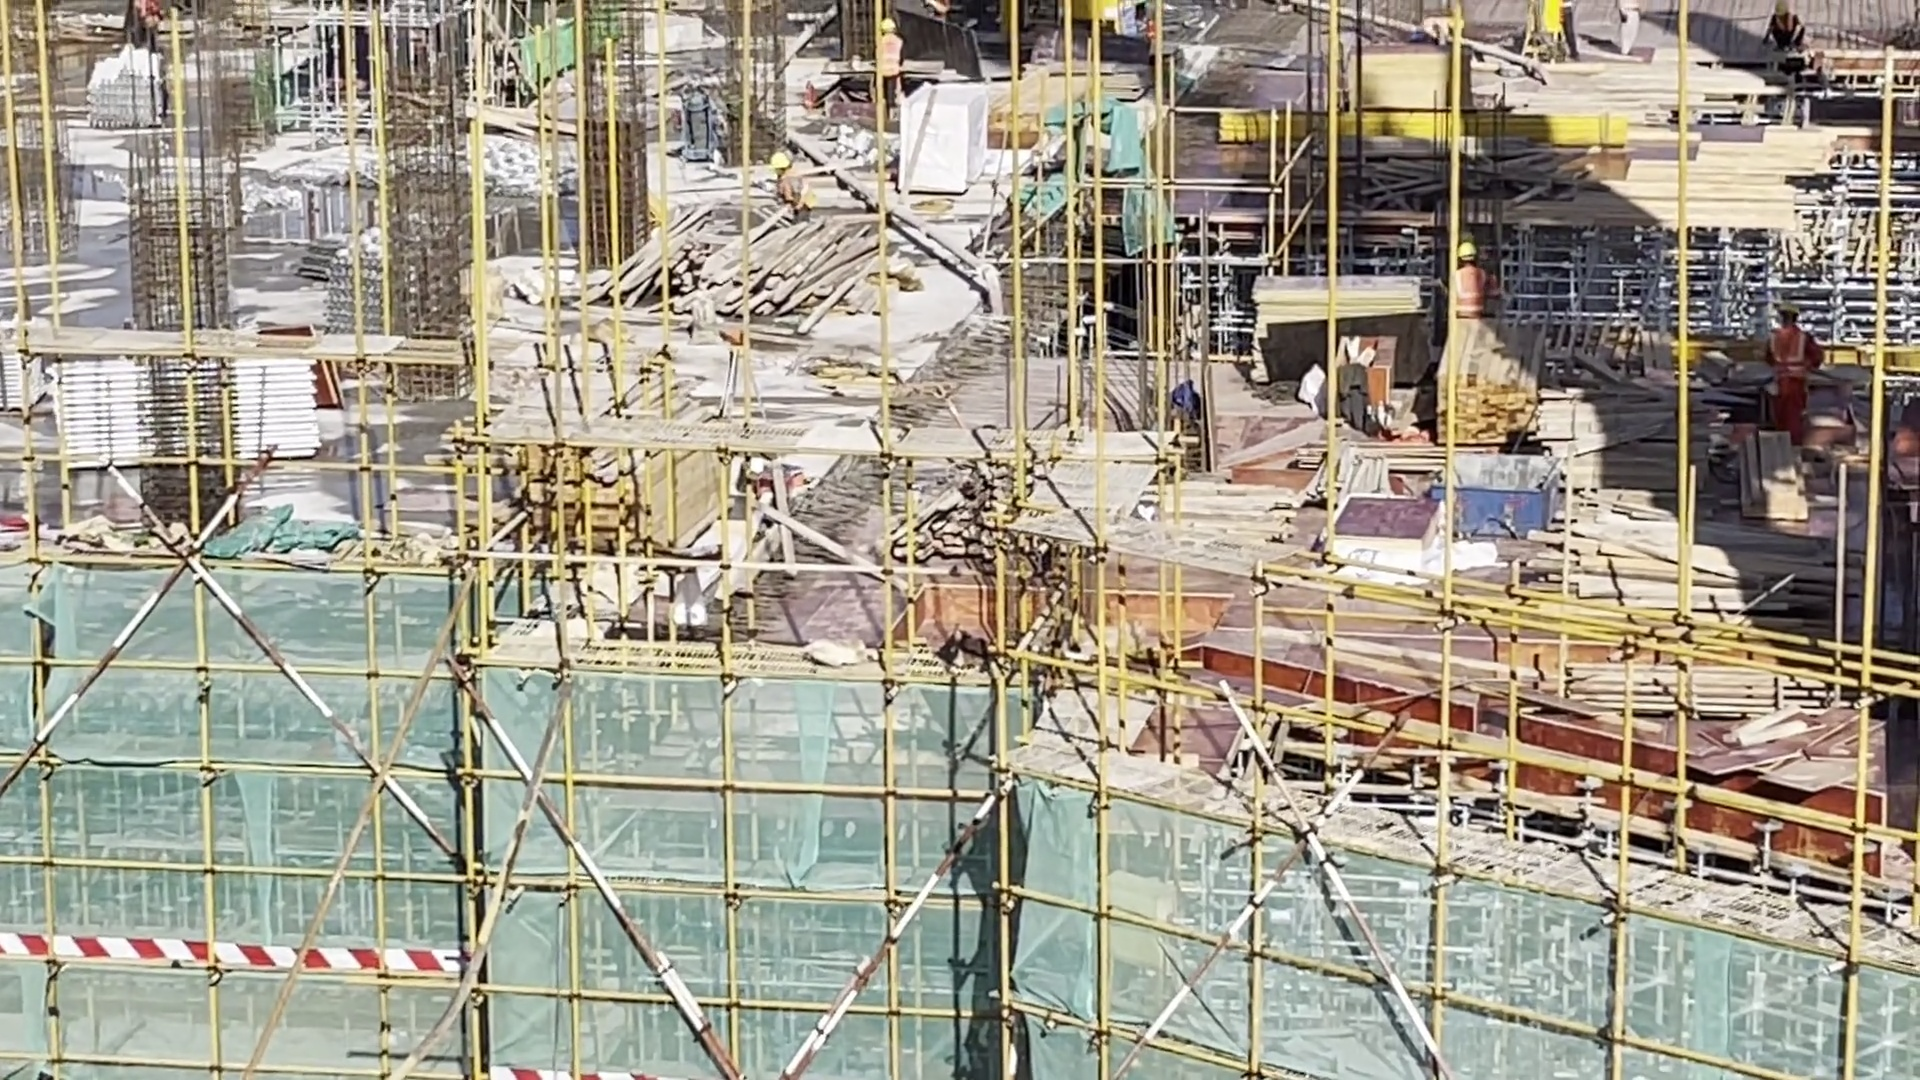board: (1712, 687, 1869, 802)
helmet: (1775, 295, 1803, 335), (766, 141, 794, 174), (1454, 243, 1477, 268), (875, 20, 898, 42), (744, 457, 763, 478)
hopper: (1433, 457, 1564, 555)
person: (1759, 294, 1819, 427), (730, 461, 807, 511), (1448, 240, 1491, 311), (767, 156, 817, 215), (865, 51, 903, 124), (1767, 4, 1811, 53)
scaffold: (40, 342, 349, 472)
vest: (1774, 326, 1805, 387), (1455, 266, 1483, 308), (871, 37, 900, 78)
wood: (1504, 487, 1821, 648), (631, 204, 883, 336), (489, 397, 706, 549), (1563, 646, 1788, 738), (1437, 318, 1536, 446)
